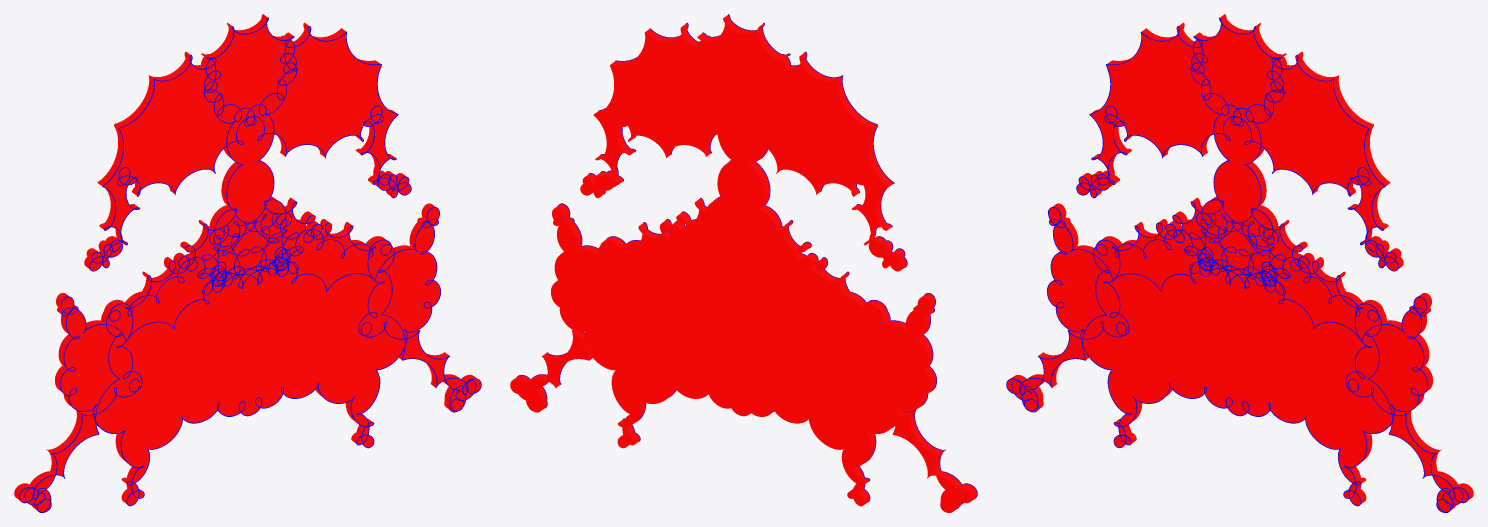
3 views of the same model, side by side, from view 1: azimuth 30°, elevation 25°; view 2: azimuth 150°, elevation 25°; view 3: azimuth 330°, elevation 25° (orthographic).
Bounding box in the file's own units: 1 × 0.9421 × 0.0209.
